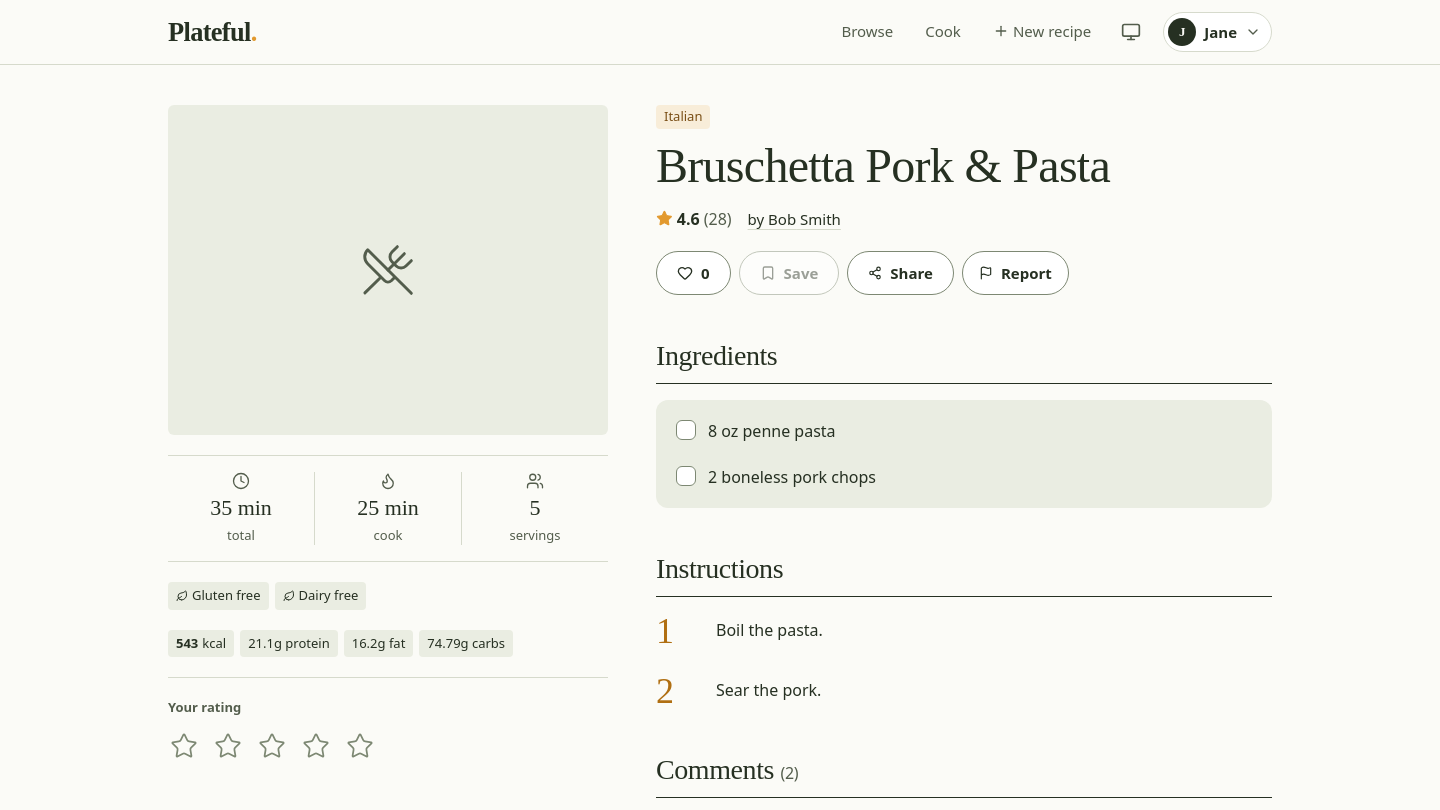
Test: a blank note is sent as null
Click the button "Report".
click(1015, 273)  # box [962,251,1069,295]
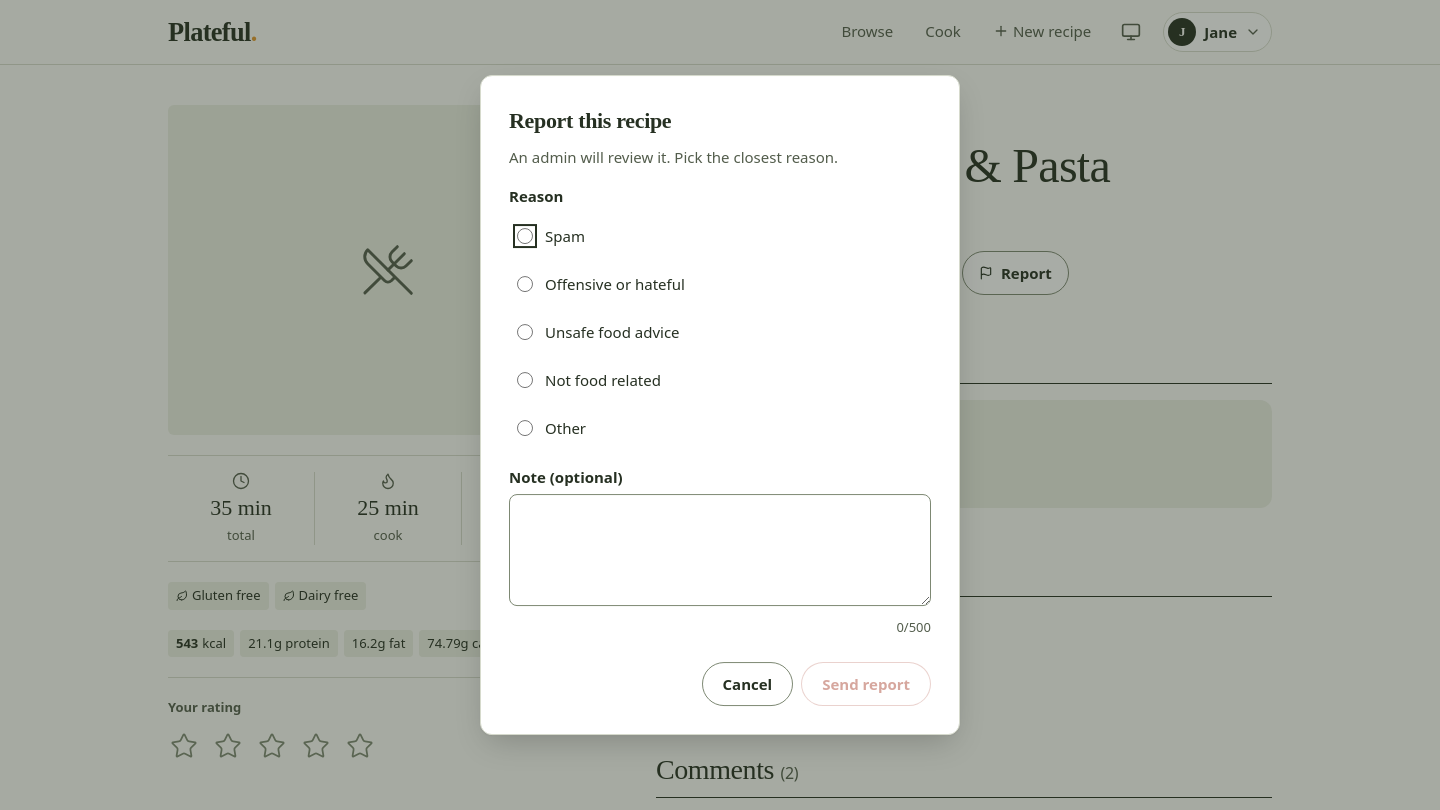
Click the radio button labelled "Other".
click(525, 428)  # box [517,420,533,436]
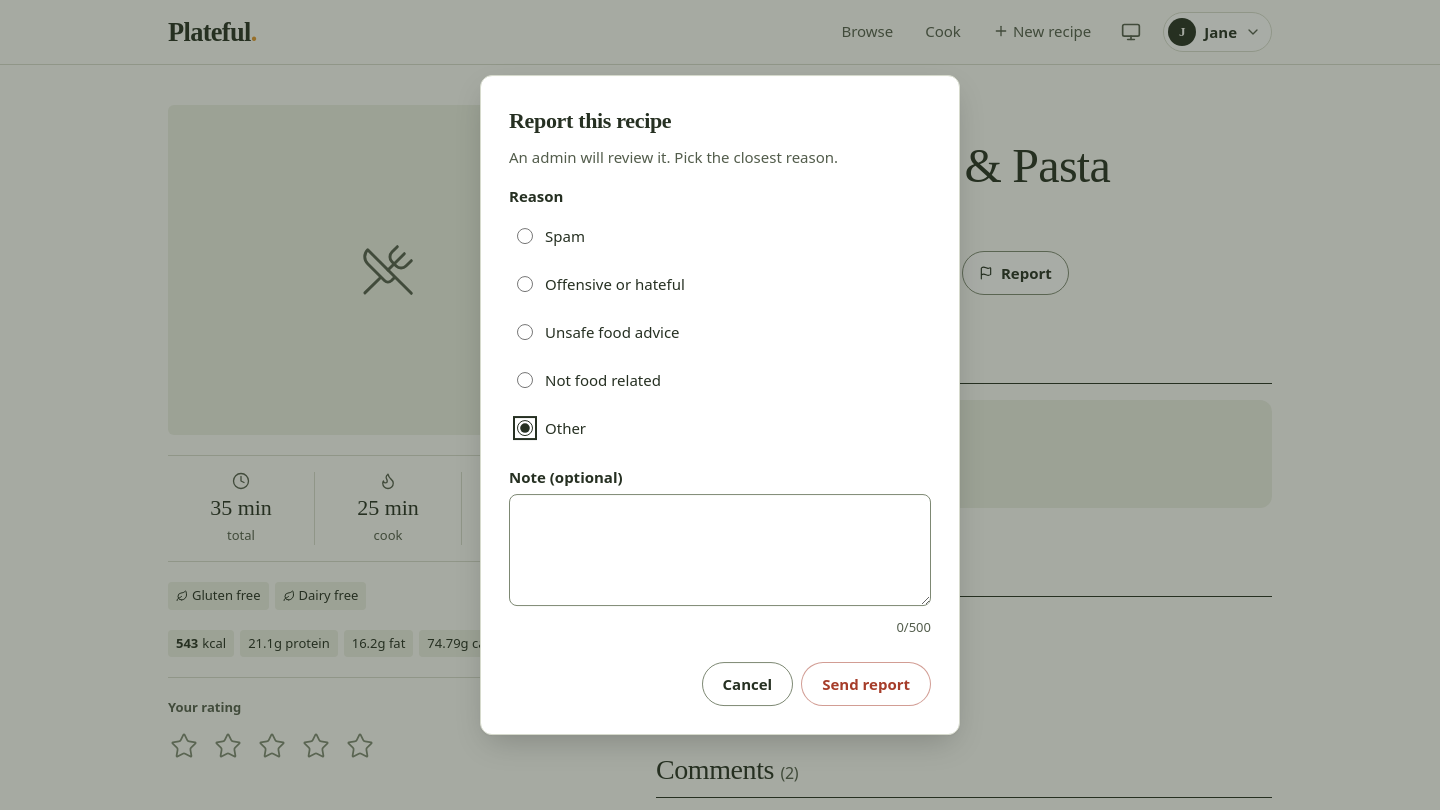
Click the button "Send report".
click(866, 684)  # box [801,662,931,706]
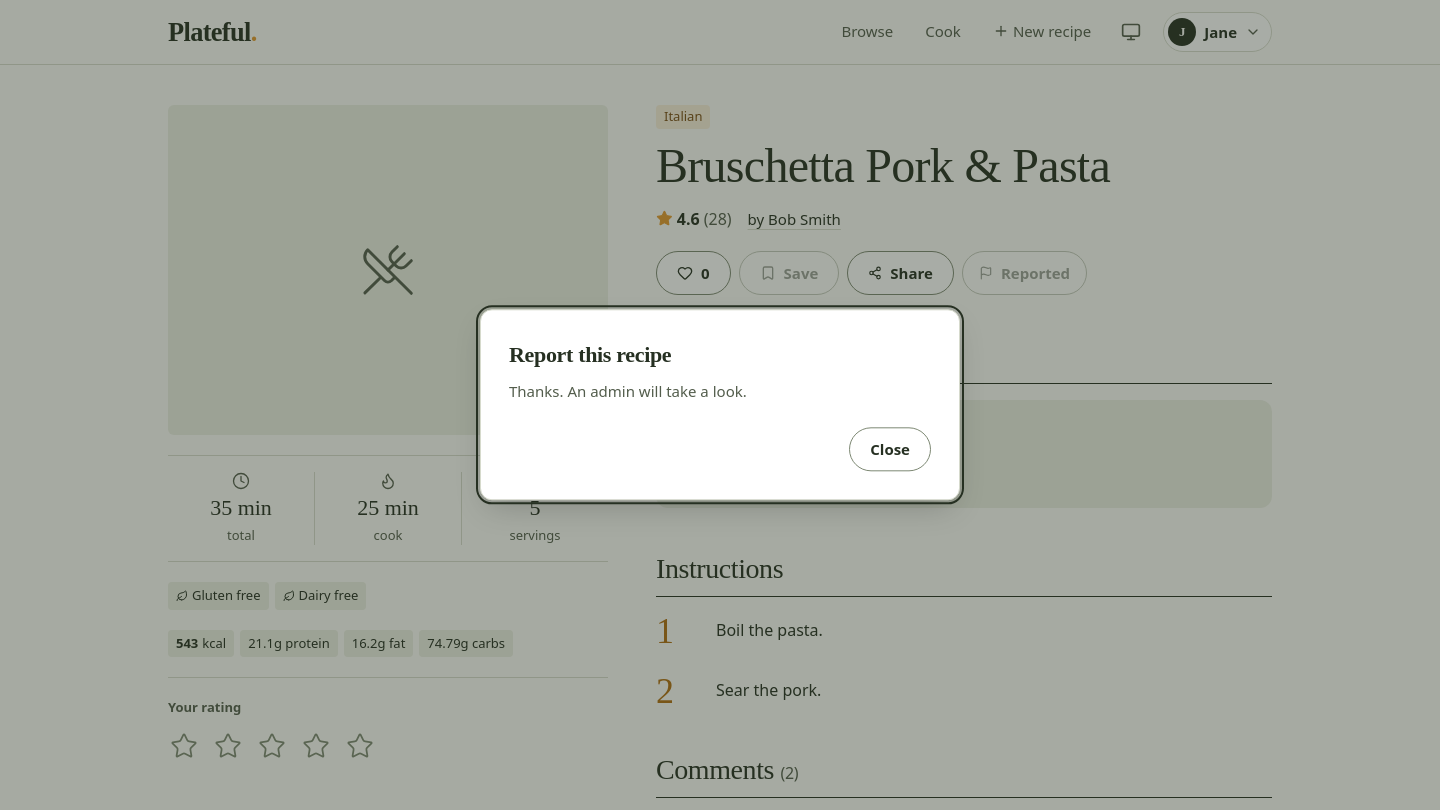
Now the text "Thanks. An admin will take a look." is shown, box [509,381,747,401]
